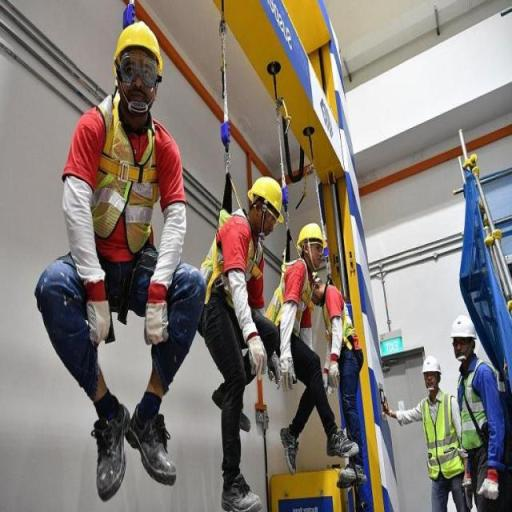helmet: (112, 18, 164, 67), (247, 170, 285, 222), (448, 312, 478, 340), (296, 219, 327, 245), (420, 353, 443, 375)
vest: (82, 100, 167, 262), (206, 214, 264, 312), (454, 355, 494, 453), (419, 391, 464, 478)
